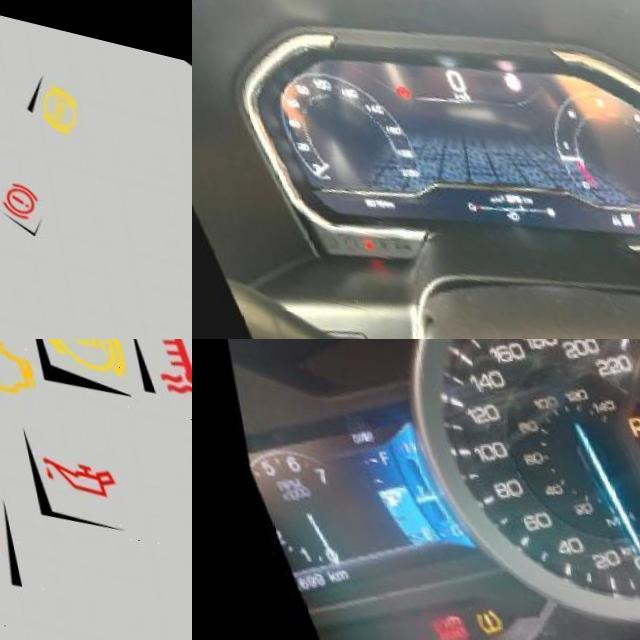Low fuel level: (491, 180, 503, 195)
